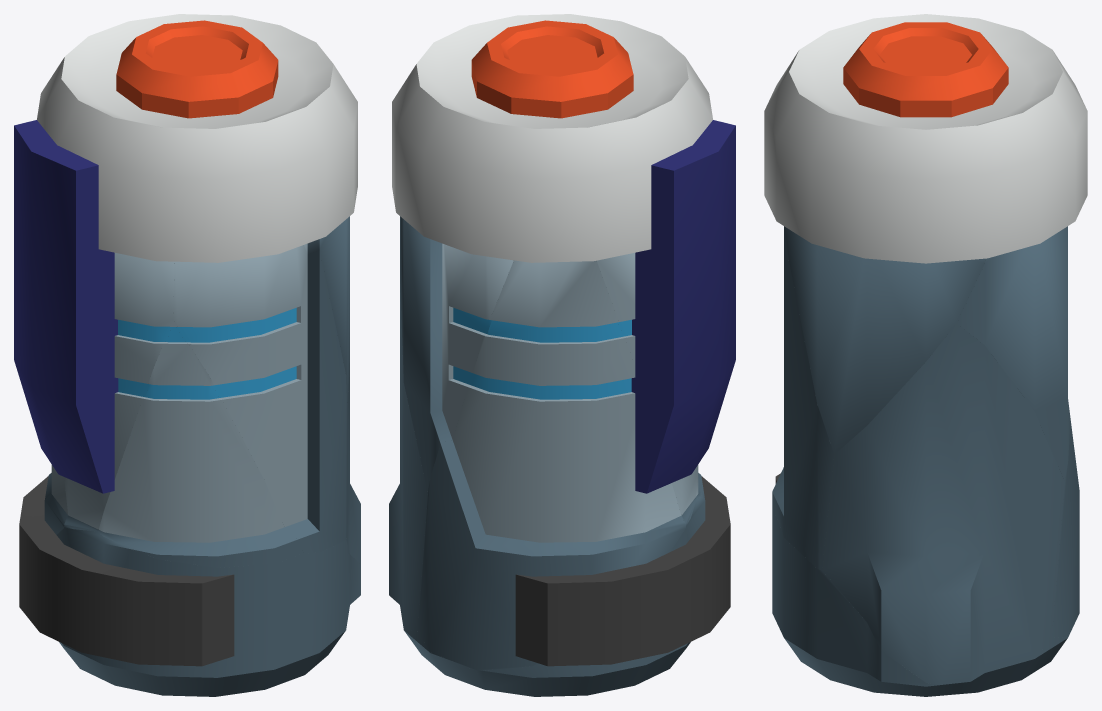
Rendered from Pin2_Fractured.fbx.
The picture shows the model from 3 angles, left to right: view 1: azimuth 30°, elevation 25°; view 2: azimuth 150°, elevation 25°; view 3: azimuth 270°, elevation 25°; orthographic projection.
Visible parts, largest first — view 1: polySurface6.001, polySurface6_cell.007, polySurface6.003, polySurface6_cell.006, polySurface6_cell.003, polySurface6.004, polySurface6.002, polySurface6_cell.005, polySurface6_cell, polySurface6_cell.002, polySurface6_cell.004; view 2: polySurface6_cell.004, polySurface6.001, polySurface6.003, polySurface6.004, polySurface6_cell.001, polySurface6.002, polySurface6_cell.003, polySurface6_cell.002, polySurface6_cell.005; view 3: polySurface6_cell.002, polySurface6.001, polySurface6_cell, polySurface6_cell.001, polySurface6_cell.003, polySurface6.002, polySurface6_cell.007, polySurface6_cell.004.
Part boxes in pixels (x1,y1,x2,y2): polySurface6.001: (37,14,357,262); polySurface6_cell.007: (173,245,347,553); polySurface6.003: (14,120,118,493); polySurface6_cell.006: (98,320,303,567); polySurface6_cell.003: (56,527,360,696); polySurface6.004: (19,476,234,666); polySurface6.002: (116,20,278,118); polySurface6_cell.005: (64,252,174,531); polySurface6_cell: (304,216,349,411); polySurface6_cell.002: (346,363,360,563); polySurface6_cell.004: (44,465,67,534); polySurface6_cell.004: (417,260,686,670); polySurface6.001: (392,14,712,262); polySurface6.003: (631,120,735,493); polySurface6.004: (515,476,730,666); polySurface6_cell.001: (400,216,513,491); polySurface6.002: (471,20,633,118); polySurface6_cell.003: (404,489,705,696); polySurface6_cell.002: (389,284,427,631); polySurface6_cell.005: (597,252,698,525); polySurface6_cell.002: (822,323,1064,684); polySurface6.001: (764,14,1087,263); polySurface6_cell: (784,226,986,454); polySurface6_cell.001: (956,226,1070,481); polySurface6_cell.003: (772,508,1070,696); polySurface6.002: (843,22,1008,117); polySurface6_cell.007: (778,237,834,570); polySurface6_cell.004: (1052,421,1079,637).
Size of the model in its own units: 4832 by 8608 by 4273.
